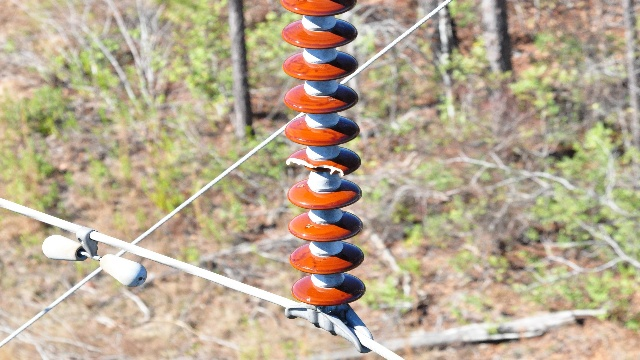broken_local: (287, 157, 345, 179)
insulator_unspecified: (280, 0, 365, 304)
